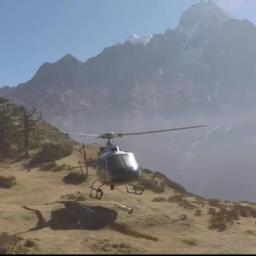helicopter: (50, 125, 209, 200)
